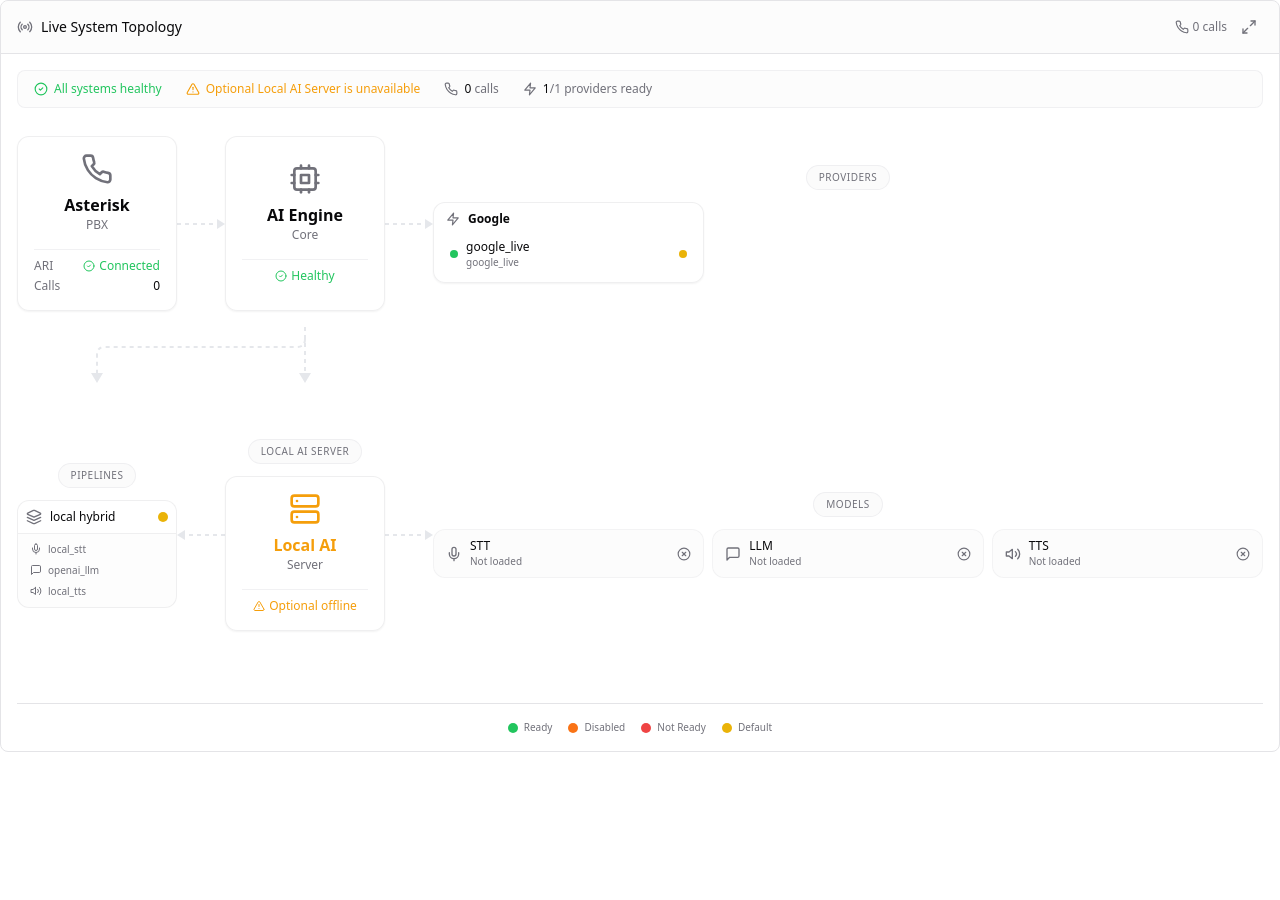
it: SystemTopology dashboard health › opens warning details when optional Local AI is unavailable
The image size is (1280, 900).
Click the button "Optional Local AI Server is unavailable" at (303,89), box [186,81,420,97]
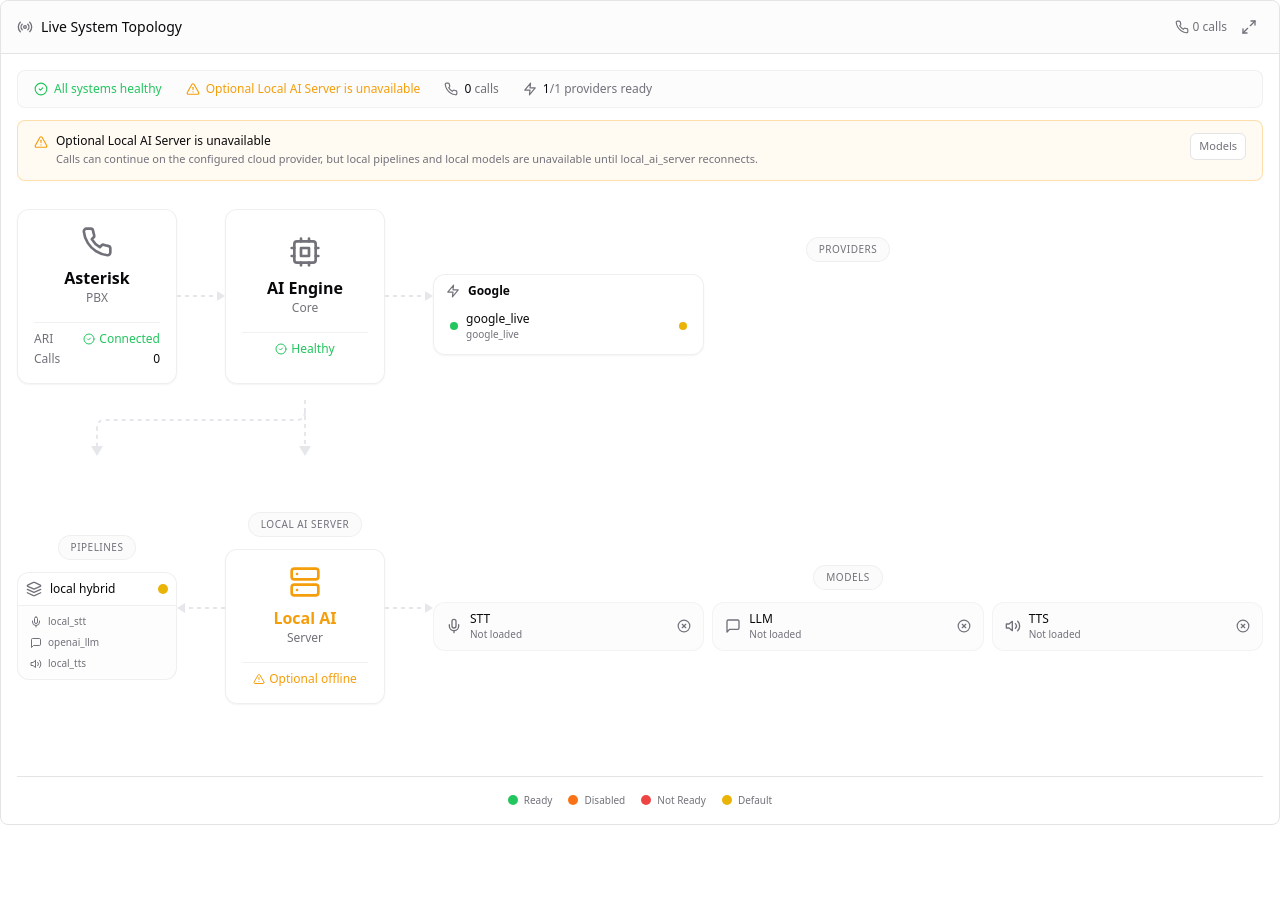
Result: the text "Calls can continue on the configured cloud provider, but local pipelines and local models are unavailable until local_ai" is shown at [56,151,758,166]
Result: the button "Models" is shown at [1190,133,1246,160]
